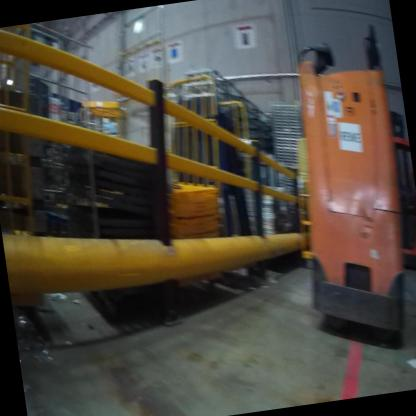forklift: (380, 102, 416, 276)
pallet_truck: (269, 10, 416, 368)
